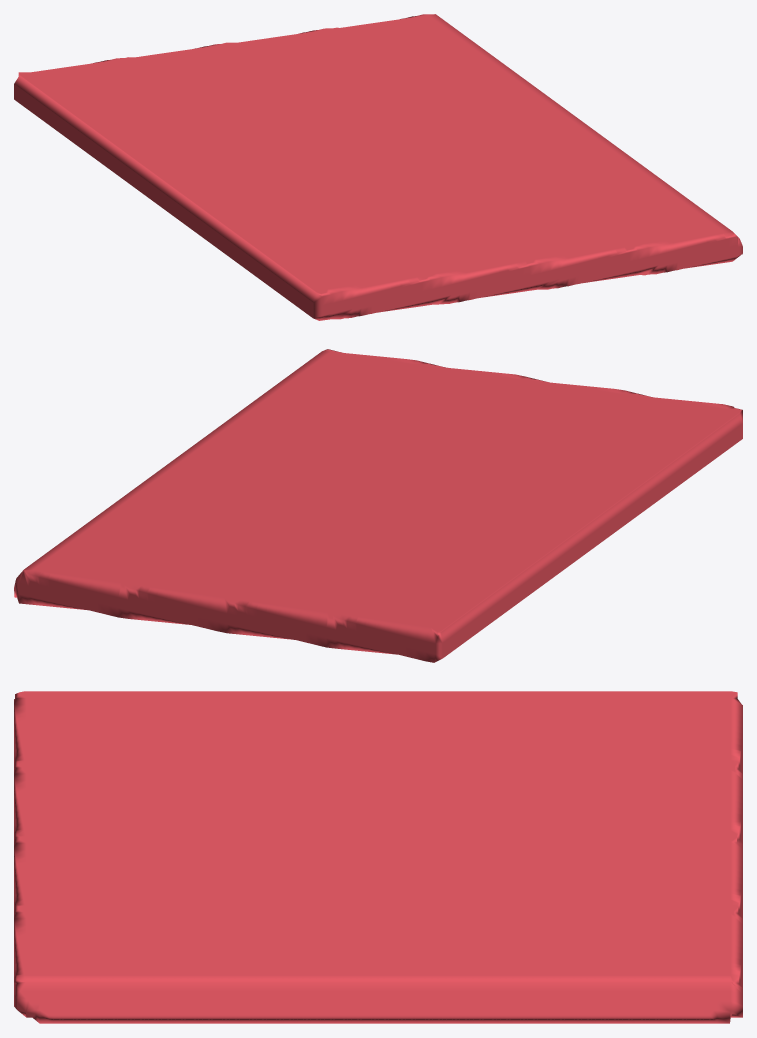
Rendered from bonnet.glb.
3 renders of one model, top to bottom at view 1: azimuth 30°, elevation 25°; view 2: azimuth 150°, elevation 25°; view 3: azimuth 270°, elevation 25°, orthographic. The views are drawn at different scales.
Visible parts, largest first — view 1: bonnet; view 2: bonnet; view 3: bonnet.
Boxes of the visible parts, x1,y1,x2,y2 form: bonnet: [14, 14, 742, 320]; bonnet: [14, 349, 742, 662]; bonnet: [14, 691, 742, 1023].
Bounding box in the file's own units: 11.94 × 1.91 × 14.6.
